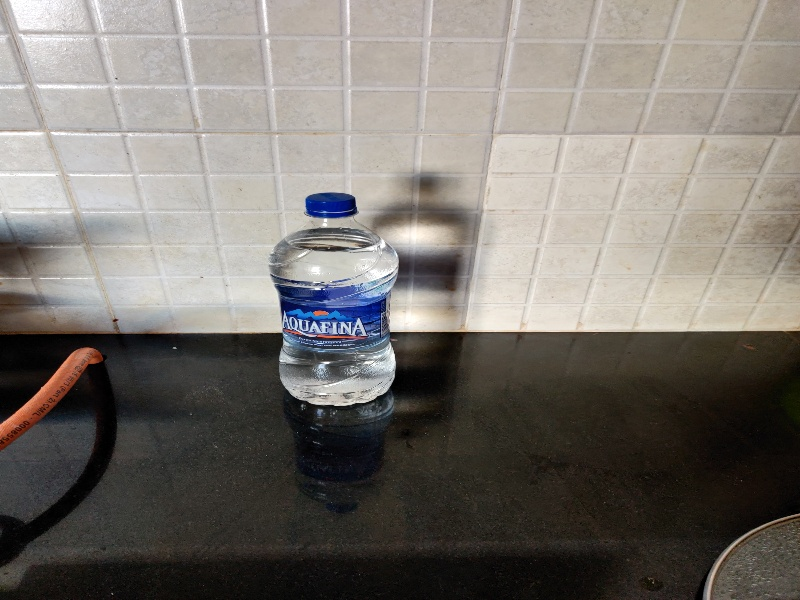bottle: (263, 189, 402, 410)
